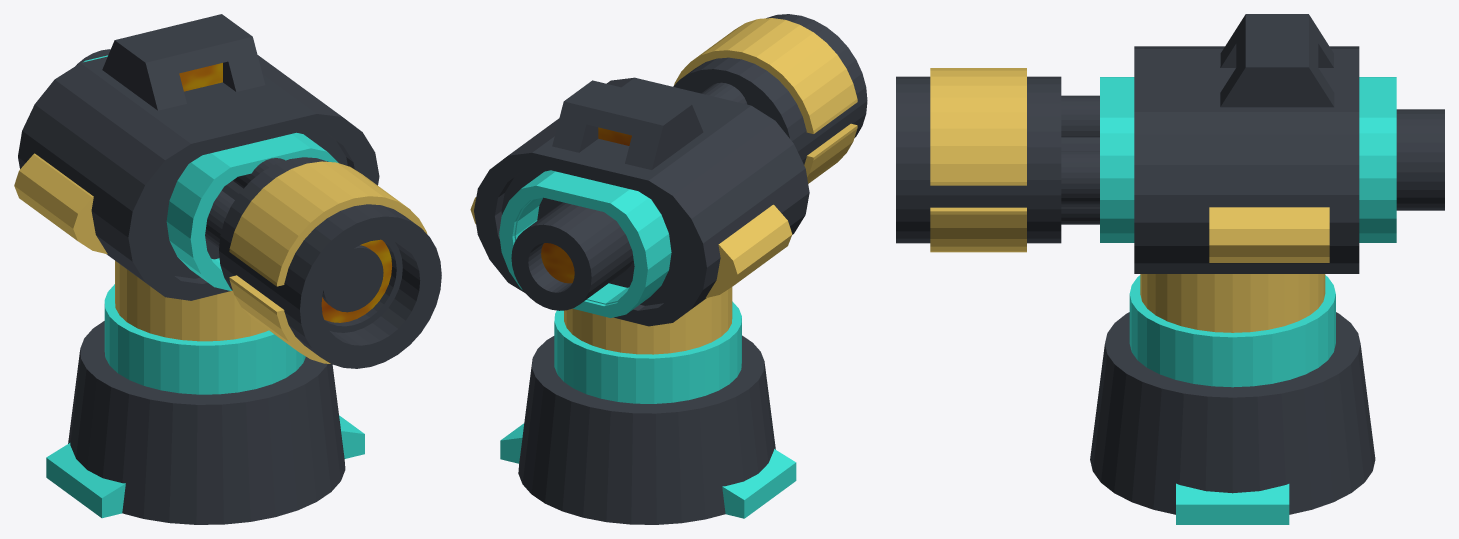
The model's file is Turm7.fbx.
3 renders of one model, left to right at view 1: azimuth 30°, elevation 25°; view 2: azimuth 150°, elevation 25°; view 3: azimuth 270°, elevation 25°, orthographic. The views are drawn at different scales.
Parts seen in each view (by area): view 1: Canon, Base, Barrel1, GoldFront, BaseMid, Barrel4, GoldBody, GoldSide, BaseSide, LavaBack, Barrel2; view 2: Canon, Base, BaseMid, GoldFront, Barrel5, Barrel3, Barrel1, GoldBody, GoldSide, BaseSide, LavaBack, Barrel2; view 3: Canon, Base, GoldFront, Barrel1, BaseMid, GoldBody, GoldSide, Barrel5, Barrel4, Barrel2, Barrel3, BaseSide.
Part boxes in pixels (left/top/right/bottom): Canon: left=18, top=14, right=379, bottom=300; Base: left=68, top=321, right=345, bottom=524; Barrel1: left=219, top=157, right=441, bottom=368; GoldFront: left=229, top=161, right=427, bottom=363; BaseMid: left=104, top=284, right=305, bottom=394; Barrel4: left=166, top=132, right=338, bottom=290; GoldBody: left=115, top=261, right=268, bottom=341; GoldSide: left=14, top=153, right=107, bottom=254; BaseSide: left=46, top=415, right=364, bottom=518; LavaBack: left=179, top=63, right=392, bottom=322; Barrel2: left=205, top=158, right=285, bottom=248; Canon: left=474, top=77, right=809, bottom=326; Base: left=518, top=335, right=775, bottom=524; BaseMid: left=554, top=301, right=741, bottom=403; GoldFront: left=674, top=18, right=857, bottom=183; Barrel5: left=499, top=170, right=671, bottom=317; Barrel3: left=511, top=202, right=633, bottom=310; Barrel1: left=673, top=14, right=867, bottom=164; GoldBody: left=564, top=287, right=732, bottom=354; GoldSide: left=470, top=197, right=792, bottom=298; BaseSide: left=500, top=423, right=796, bottom=518; LavaBack: left=541, top=127, right=631, bottom=283; Barrel2: left=701, top=82, right=747, bottom=104; Canon: left=1134, top=14, right=1359, bottom=273; Base: left=1090, top=312, right=1375, bottom=514; GoldFront: left=930, top=68, right=1026, bottom=252; Barrel1: left=896, top=76, right=1061, bottom=243; BaseMid: left=1129, top=275, right=1335, bottom=387; GoldBody: left=1140, top=274, right=1325, bottom=332; GoldSide: left=1209, top=207, right=1329, bottom=262; Barrel5: left=1359, top=77, right=1396, bottom=242; Barrel4: left=1100, top=77, right=1134, bottom=242; Barrel2: left=1061, top=95, right=1099, bottom=224; Barrel3: left=1396, top=109, right=1444, bottom=210; BaseSide: left=1176, top=483, right=1289, bottom=524.
Size of the model in its own units: 276 by 378 by 448.
Materials: 4 (1 with a texture image).
